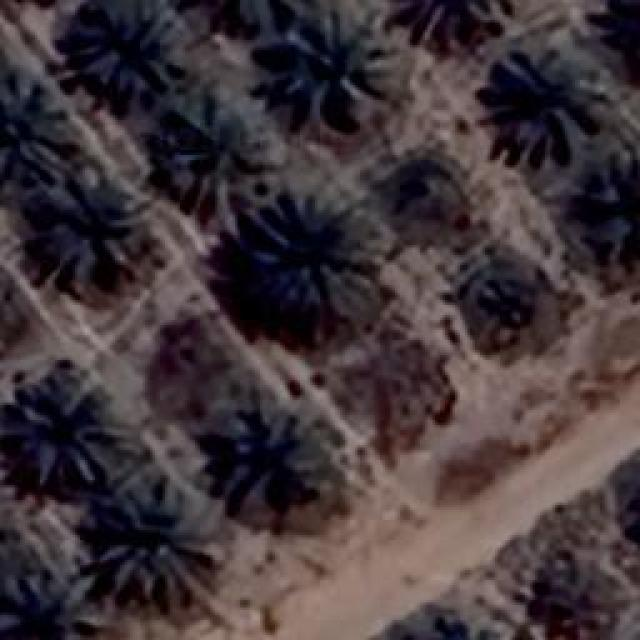PalmTree: (75, 71, 503, 299), (165, 82, 290, 236), (95, 478, 223, 608), (255, 195, 383, 315), (110, 29, 456, 71), (492, 45, 600, 170), (34, 170, 148, 282), (208, 398, 326, 506), (270, 5, 392, 105), (10, 370, 118, 482), (67, 0, 185, 95), (562, 134, 640, 268), (3, 565, 106, 640), (0, 75, 65, 180), (526, 554, 592, 632), (386, 614, 518, 640), (188, 0, 318, 26), (611, 0, 640, 80), (0, 263, 24, 357), (620, 0, 640, 83), (0, 266, 17, 356)
